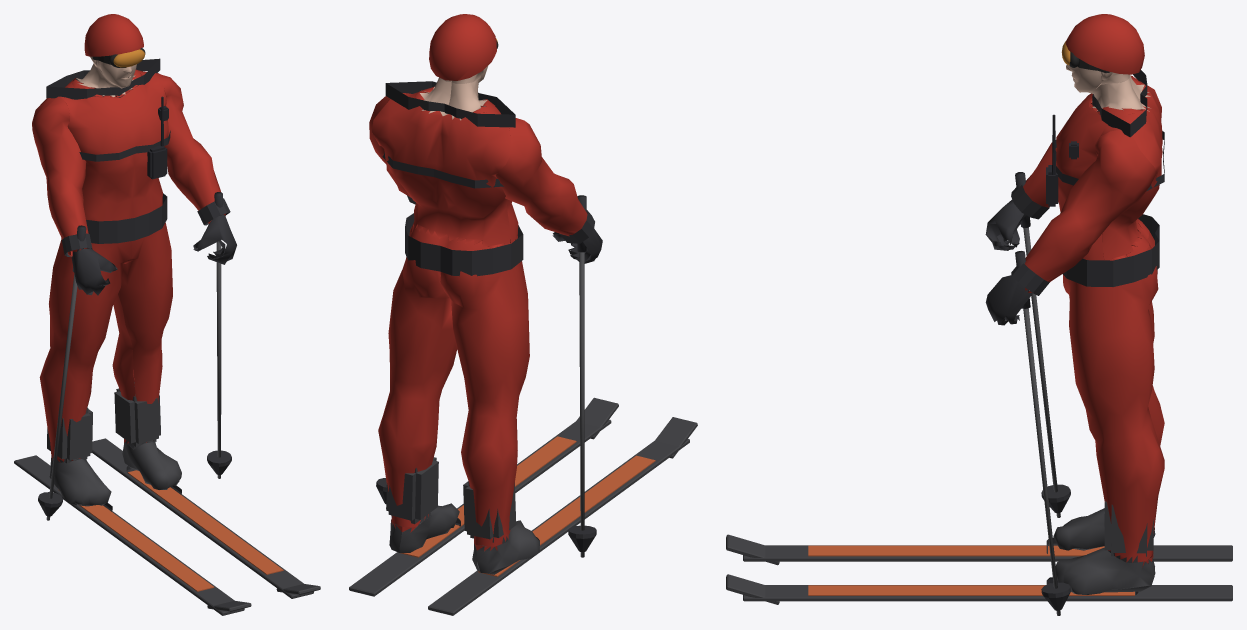
Rendered from guide.glb.
The picture shows the model from 3 angles, left to right: view 1: azimuth 30°, elevation 25°; view 2: azimuth 150°, elevation 25°; view 3: azimuth 270°, elevation 25°; orthographic projection. The views are drawn at different scales.
Visible parts, largest first — view 1: guide; view 2: guide; view 3: guide.
Part boxes in pixels (bbox=[...]): guide: bbox=[14, 14, 320, 615]; guide: bbox=[349, 14, 697, 615]; guide: bbox=[726, 14, 1232, 615].
Bounding box in the file's own units: 0.8001 × 1.92 × 1.57.
